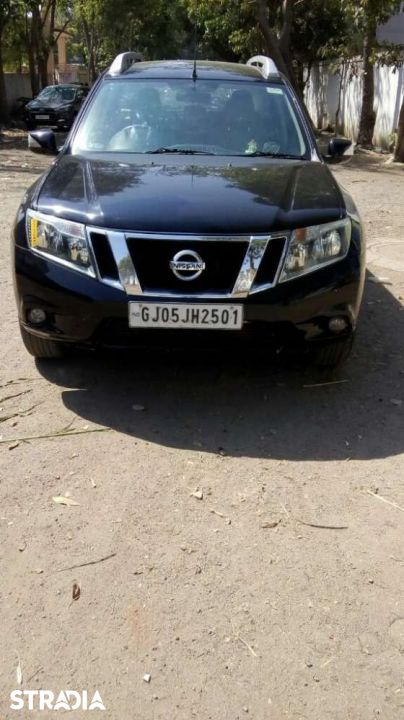number_plate: (126, 298, 246, 334)
